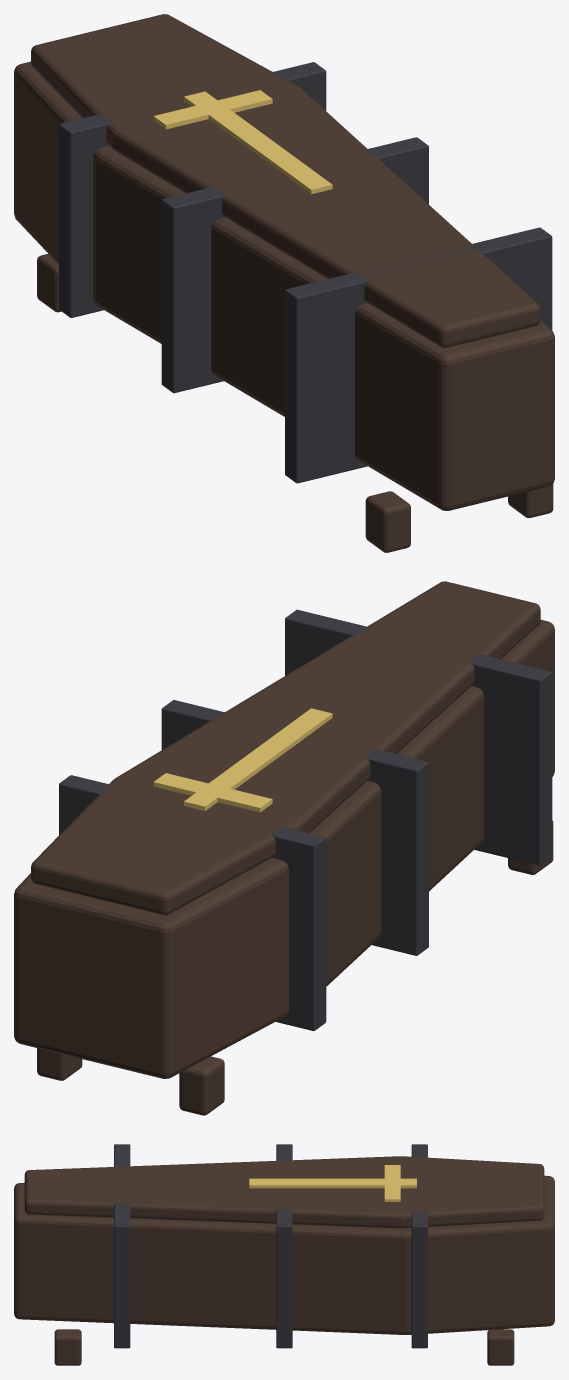
The model's file is coffin_iron_bound.glb.
3 renders of one model, top to bottom at view 1: azimuth 30°, elevation 25°; view 2: azimuth 150°, elevation 25°; view 3: azimuth 270°, elevation 25°, orthographic. The views are drawn at different scales.
Visible parts, largest first — view 1: GD_coffin_iron_bound__m0, GD_coffin_iron_bound__m2, GD_coffin_iron_bound__m1; view 2: GD_coffin_iron_bound__m0, GD_coffin_iron_bound__m2, GD_coffin_iron_bound__m1; view 3: GD_coffin_iron_bound__m0, GD_coffin_iron_bound__m2, GD_coffin_iron_bound__m1.
Boxes of the visible parts, x1,y1,x2,y2 form: GD_coffin_iron_bound__m0: [14, 14, 554, 552]; GD_coffin_iron_bound__m2: [59, 62, 552, 483]; GD_coffin_iron_bound__m1: [153, 90, 332, 194]; GD_coffin_iron_bound__m0: [14, 581, 554, 1115]; GD_coffin_iron_bound__m2: [59, 609, 552, 1030]; GD_coffin_iron_bound__m1: [153, 708, 332, 812]; GD_coffin_iron_bound__m0: [14, 1156, 554, 1365]; GD_coffin_iron_bound__m2: [114, 1144, 427, 1348]; GD_coffin_iron_bound__m1: [249, 1165, 416, 1201].
Size of the model in its own units: 0.72 by 0.642 by 2.
